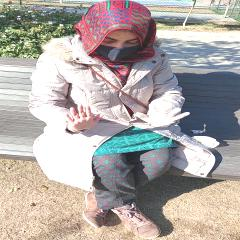gloved: (132, 103, 188, 126)
not-gloved: (63, 105, 102, 132)
